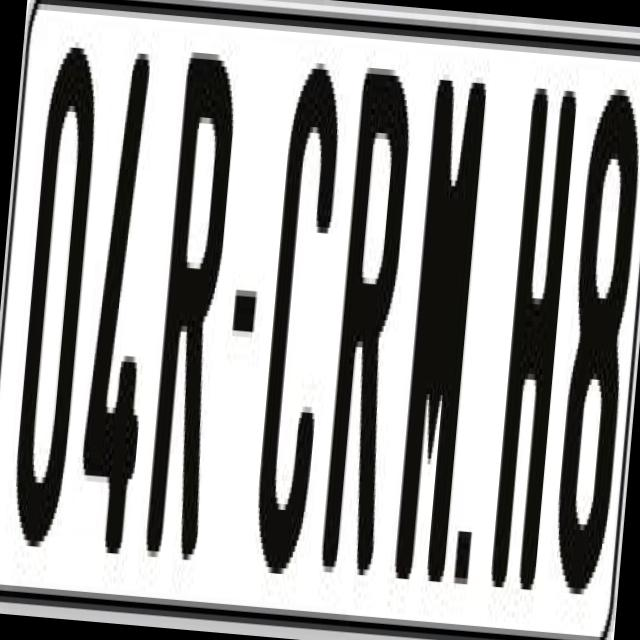0: (7, 34, 102, 560)
4: (70, 33, 170, 554)
8: (548, 75, 634, 595)
C: (246, 61, 342, 587)
H: (489, 76, 582, 590)
M: (390, 73, 484, 587)
R: (139, 46, 244, 584), (320, 49, 414, 570)
